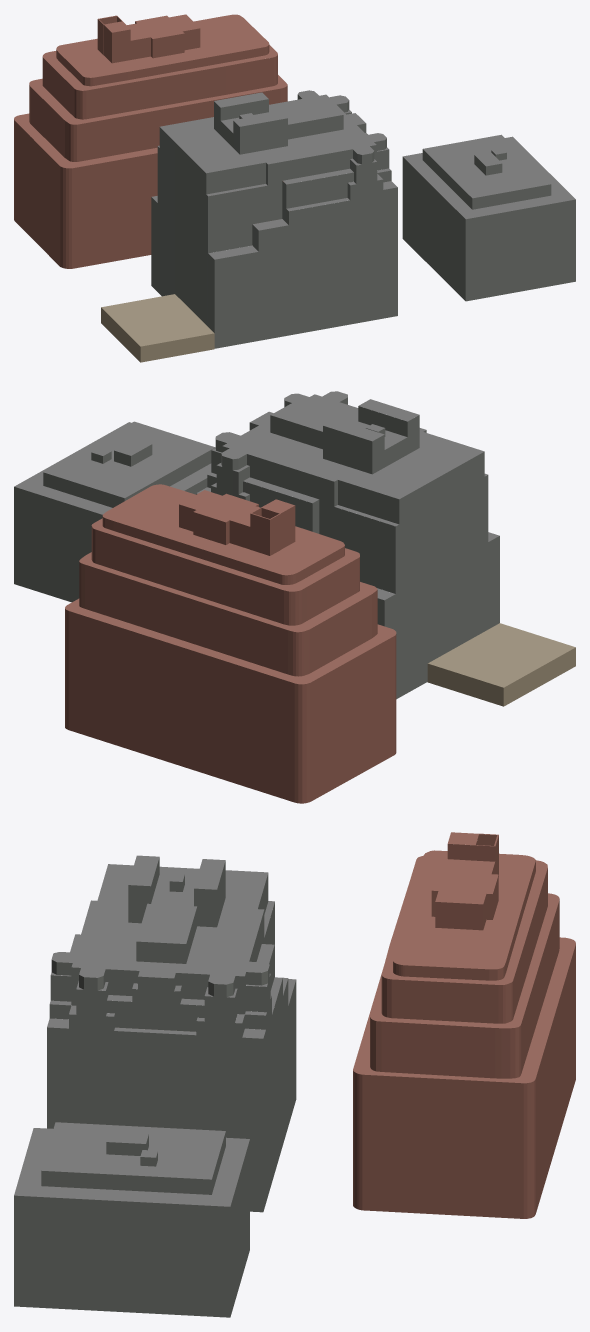
The model's file is tile--5_1.glb.
3 renders of one model, top to bottom at view 1: azimuth 30°, elevation 25°; view 2: azimuth 150°, elevation 25°; view 3: azimuth 270°, elevation 25°, orthographic. The views are drawn at different scales.
Parts seen in each view (by area): view 1: wall, roof; view 2: wall, roof; view 3: wall, roof.
Part boxes in pixels (x1,y1,x2,y2): wall: (14, 16, 575, 362); roof: (14, 14, 575, 346); wall: (14, 397, 575, 803); roof: (14, 391, 575, 687); wall: (14, 834, 575, 1317); roof: (14, 832, 575, 1206).
Bounding box in the file's own units: 185 × 86.54 × 158.
